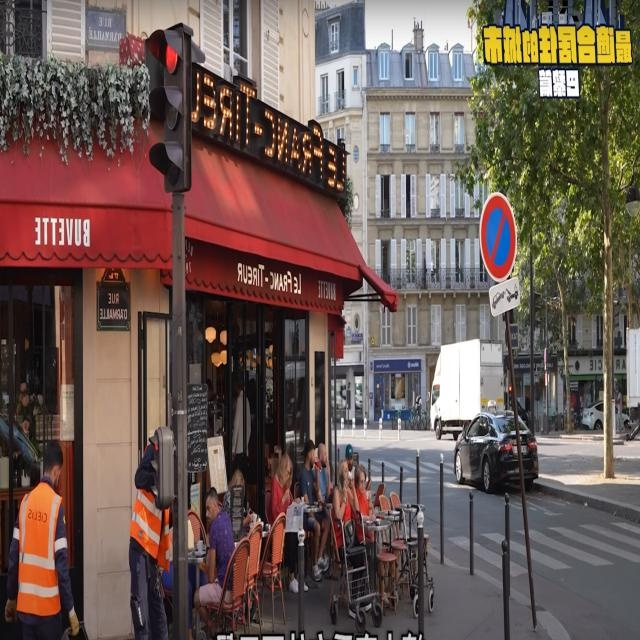Con_Chaleco: (16, 483, 65, 616)
Sin_Casco_Mascarrilla: (43, 438, 63, 485)
